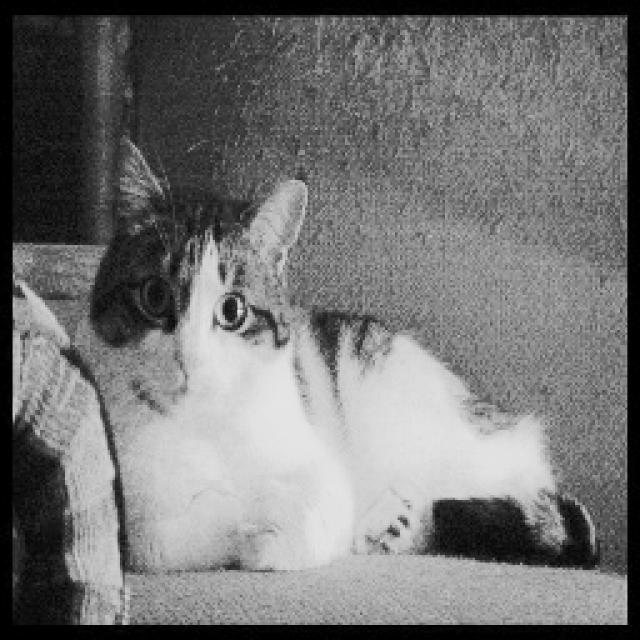cat: (72, 128, 588, 583)
